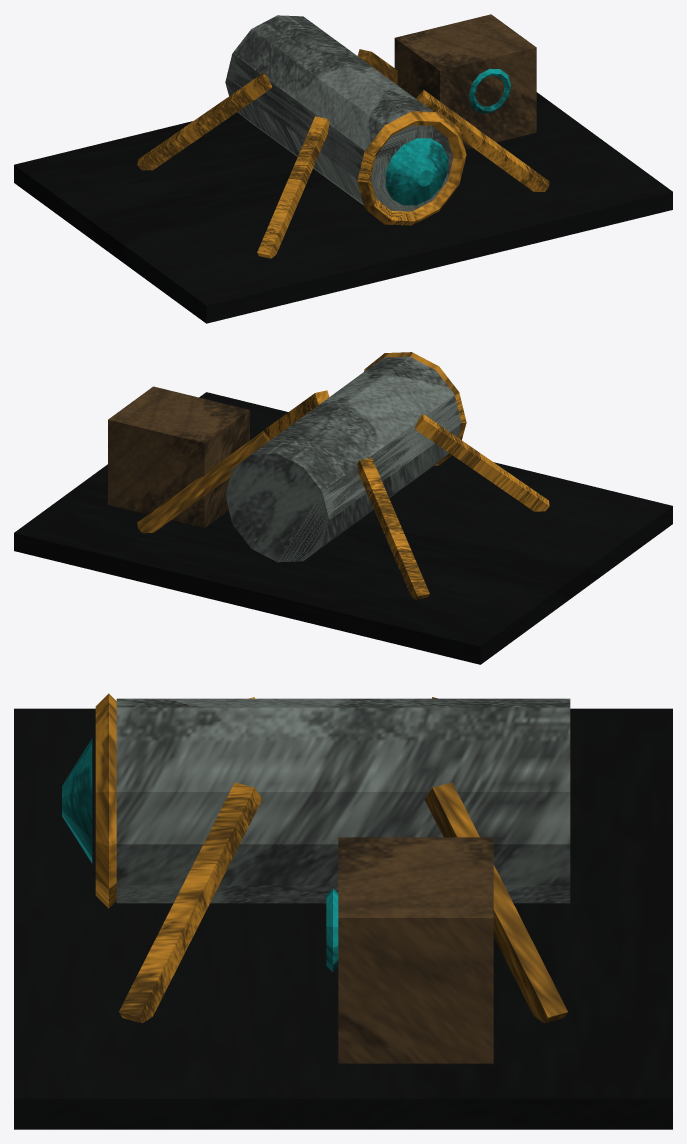
Rendered from probe-recovery-cradle.glb.
The picture shows the model from 3 angles, top to bottom: view 1: azimuth 30°, elevation 25°; view 2: azimuth 150°, elevation 25°; view 3: azimuth 270°, elevation 25°; orthographic projection. The views are drawn at different scales.
Visible parts, largest first — view 1: probe-recovery-cradle; view 2: probe-recovery-cradle; view 3: probe-recovery-cradle.
Boxes of the visible parts, bbox=[...] form: probe-recovery-cradle: bbox=[14, 14, 672, 323]; probe-recovery-cradle: bbox=[14, 352, 672, 664]; probe-recovery-cradle: bbox=[14, 693, 672, 1129].
Size of the model in its own units: 7 by 1.94 by 5.
Materials: 1 (1 with a texture image).
